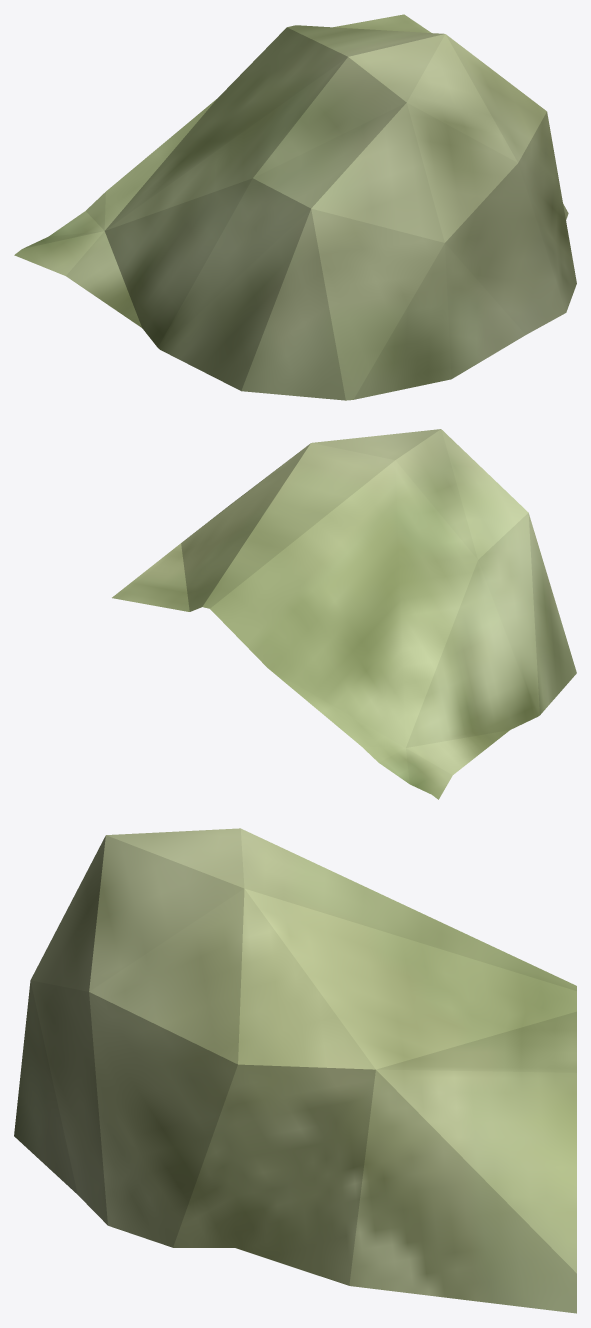
3 views of the same model, one above another, from view 1: azimuth 30°, elevation 25°; view 2: azimuth 150°, elevation 25°; view 3: azimuth 270°, elevation 25° (orthographic). The views are drawn at different scales.
Size of the model in its own units: 0.4012 by 0.1928 by 0.3246.
Materials: 1 (1 with a texture image).
